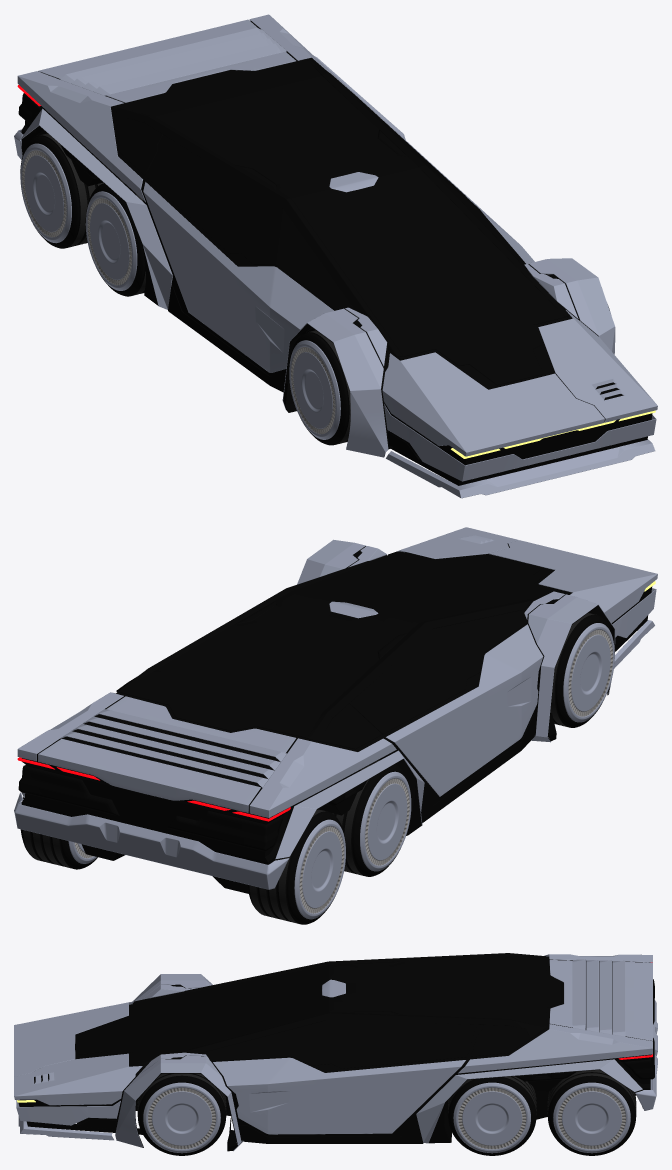
Rendered from carblack.glb.
The picture shows the model from 3 angles, top to bottom: view 1: azimuth 30°, elevation 25°; view 2: azimuth 150°, elevation 25°; view 3: azimuth 270°, elevation 25°; orthographic projection. The views are drawn at different scales.
Visible parts, largest first — view 1: blocker.020, blocker.031, blocker.021, blocker.038, blocker.018, blocker.025, blocker.028, blocker.029, blocker.039, blocker.035, blocker.019, blocker.037 (+17 smaller); view 2: blocker.020, blocker.018, blocker.021, blocker.035, blocker.034, blocker.031, blocker.028, blocker.038, blocker.029, blocker.024, blocker.025, blocker.039 (+21 smaller); view 3: blocker.020, blocker.021, blocker.031, blocker.018, blocker.028, blocker.025, blocker.038, blocker.029, blocker.035, blocker.039, Plane.010, Plane.020 (+23 smaller).
Boxes of the visible parts, bbox=[...] form: blocker.020: bbox=[116, 60, 564, 385]; blocker.031: bbox=[382, 310, 657, 456]; blocker.021: bbox=[143, 123, 534, 372]; blocker.038: bbox=[282, 258, 615, 457]; blocker.018: bbox=[21, 21, 652, 465]; blocker.025: bbox=[116, 60, 568, 356]; blocker.028: bbox=[17, 14, 390, 202]; blocker.029: bbox=[60, 28, 286, 95]; blocker.039: bbox=[20, 56, 405, 309]; blocker.035: bbox=[38, 19, 295, 102]; blocker.019: bbox=[384, 404, 656, 481]; blocker.037: bbox=[386, 439, 655, 498]; blocker.020: bbox=[119, 552, 564, 749]; blocker.018: bbox=[21, 543, 652, 864]; blocker.021: bbox=[386, 624, 543, 796]; blocker.035: bbox=[38, 696, 296, 812]; blocker.034: bbox=[14, 792, 289, 889]; blocker.031: bbox=[397, 527, 657, 622]; blocker.028: bbox=[17, 692, 396, 817]; blocker.038: bbox=[297, 539, 615, 742]; blocker.029: bbox=[60, 709, 286, 787]; blocker.024: bbox=[18, 765, 283, 851]; blocker.025: bbox=[116, 551, 569, 743]; blocker.039: bbox=[21, 750, 424, 859]; blocker.020: bbox=[78, 956, 561, 1068]; blocker.021: bbox=[213, 1057, 465, 1134]; blocker.031: bbox=[14, 1001, 142, 1105]; blocker.018: bbox=[18, 956, 650, 1141]; blocker.028: bbox=[458, 954, 652, 1073]; blocker.025: bbox=[133, 953, 545, 1065]; blocker.038: bbox=[115, 974, 243, 1151]; blocker.029: bbox=[573, 959, 625, 1036]; blocker.035: bbox=[549, 960, 652, 1040]; blocker.039: bbox=[416, 1059, 642, 1143]; Plane.010: bbox=[152, 1091, 211, 1145]; Plane.020: bbox=[562, 1091, 621, 1145].
Size of what is drawn, in the model's own units: 2.21 by 1.2 by 5.81.
